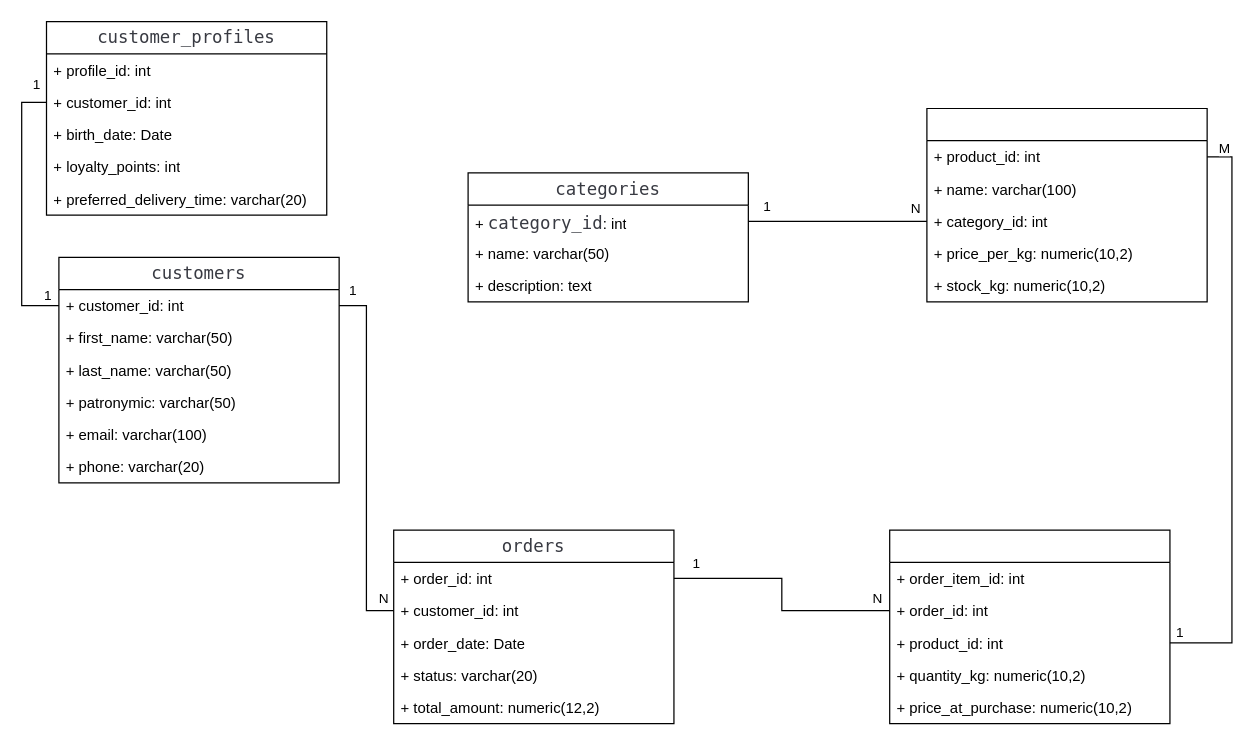
Image size: 1255x749. Some labels were removed from this diagram. Each missing label, with the box of its shape:
order_items: (888, 529, 1170, 724)
products: (926, 107, 1207, 302)
